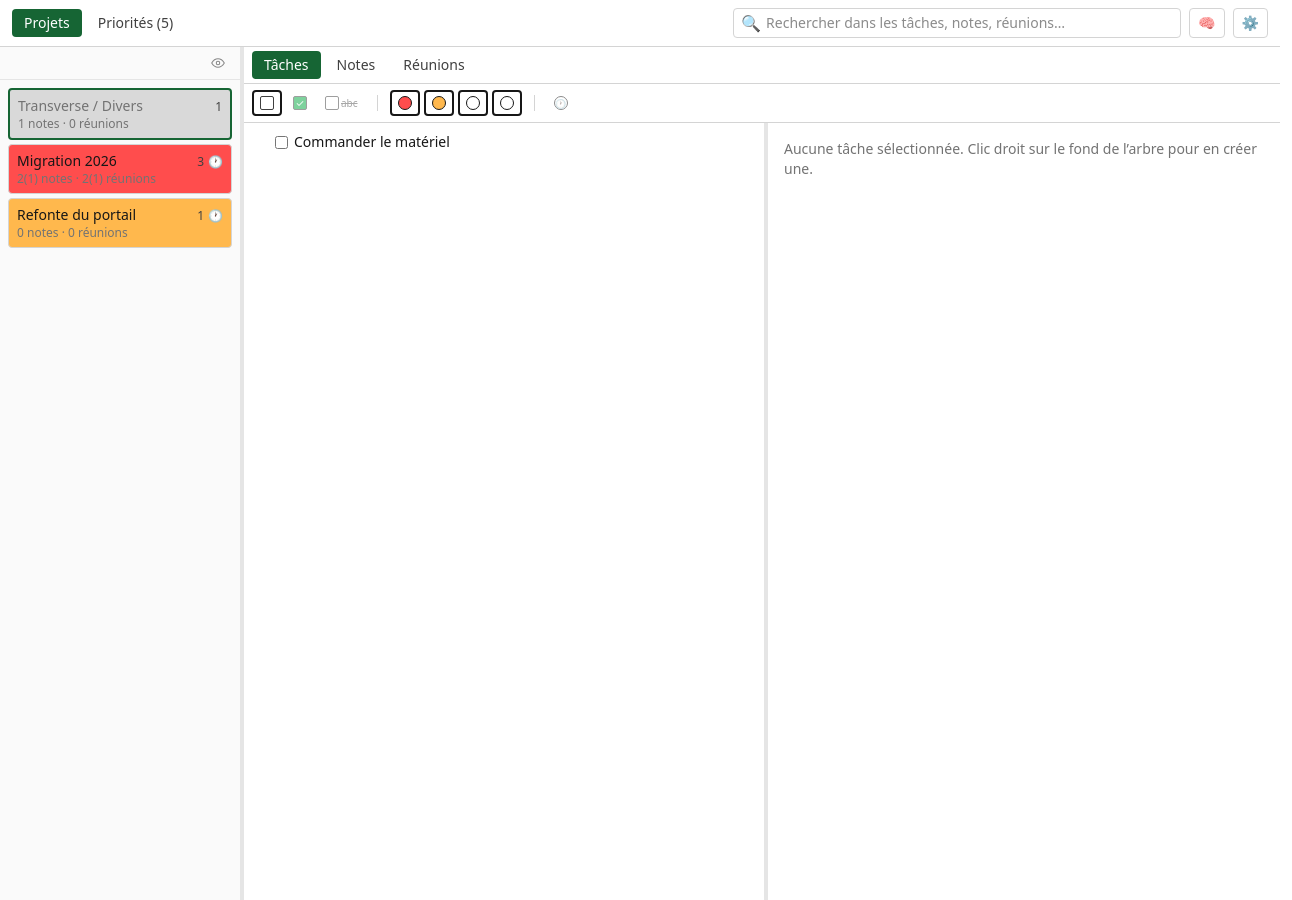
Test case: Opt-in sémantique (§2.12) › le bouton est présent sur une note et bascule à la demande
The width and height of the screenshot is (1292, 900).
Check: the navigation bar named "Projets" is shown, box [0, 80, 240, 899]
What coordinates should you click on to do the following:
click the tab "Notes"
I would click on:
 (356, 65)
Its box is [324, 51, 387, 79].
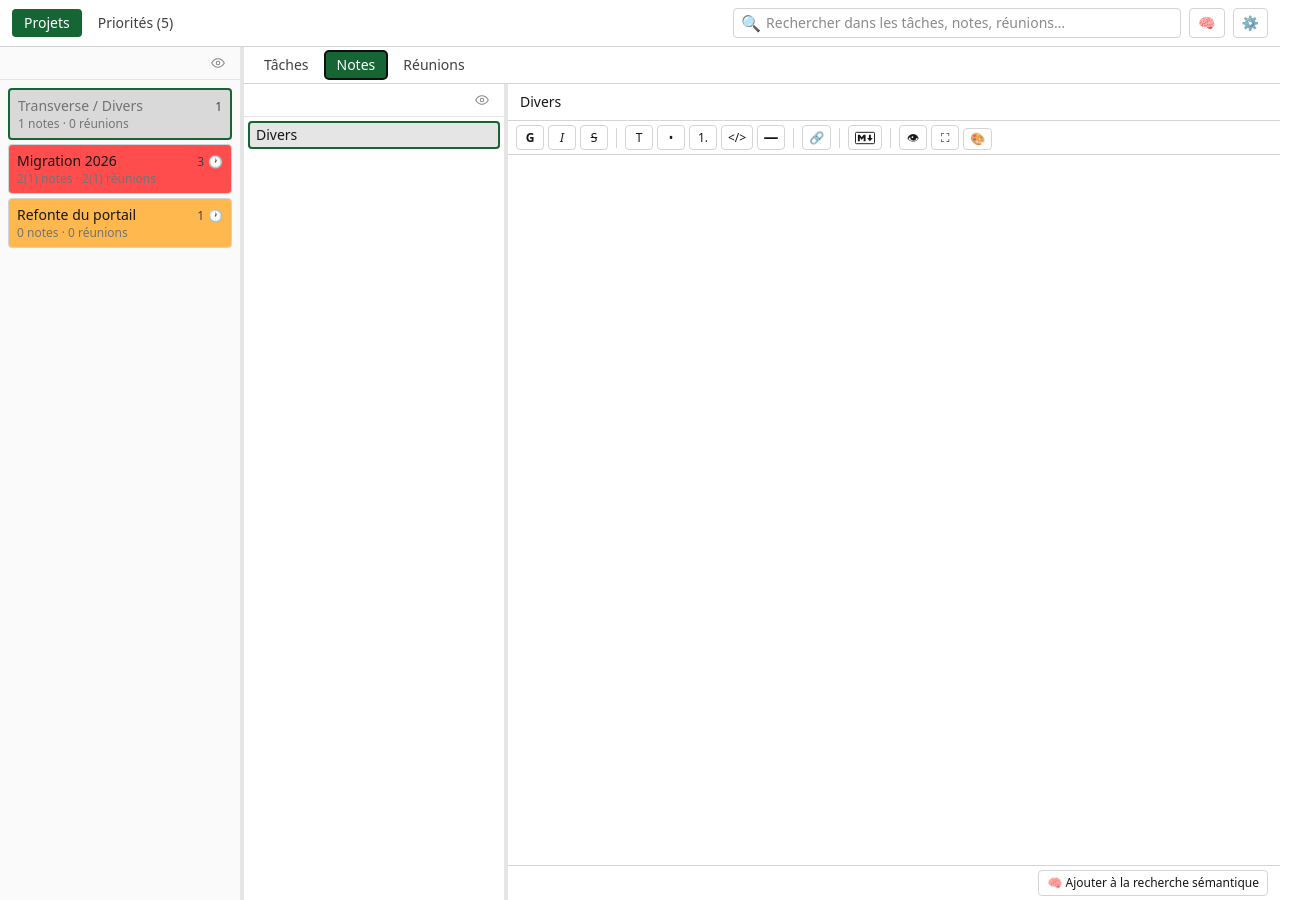
What coordinates should you click on to do the following:
click the button "🧠 Ajouter à la recherche sémantique"
I would click on:
 (1153, 883)
Its box is [1038, 870, 1268, 896].
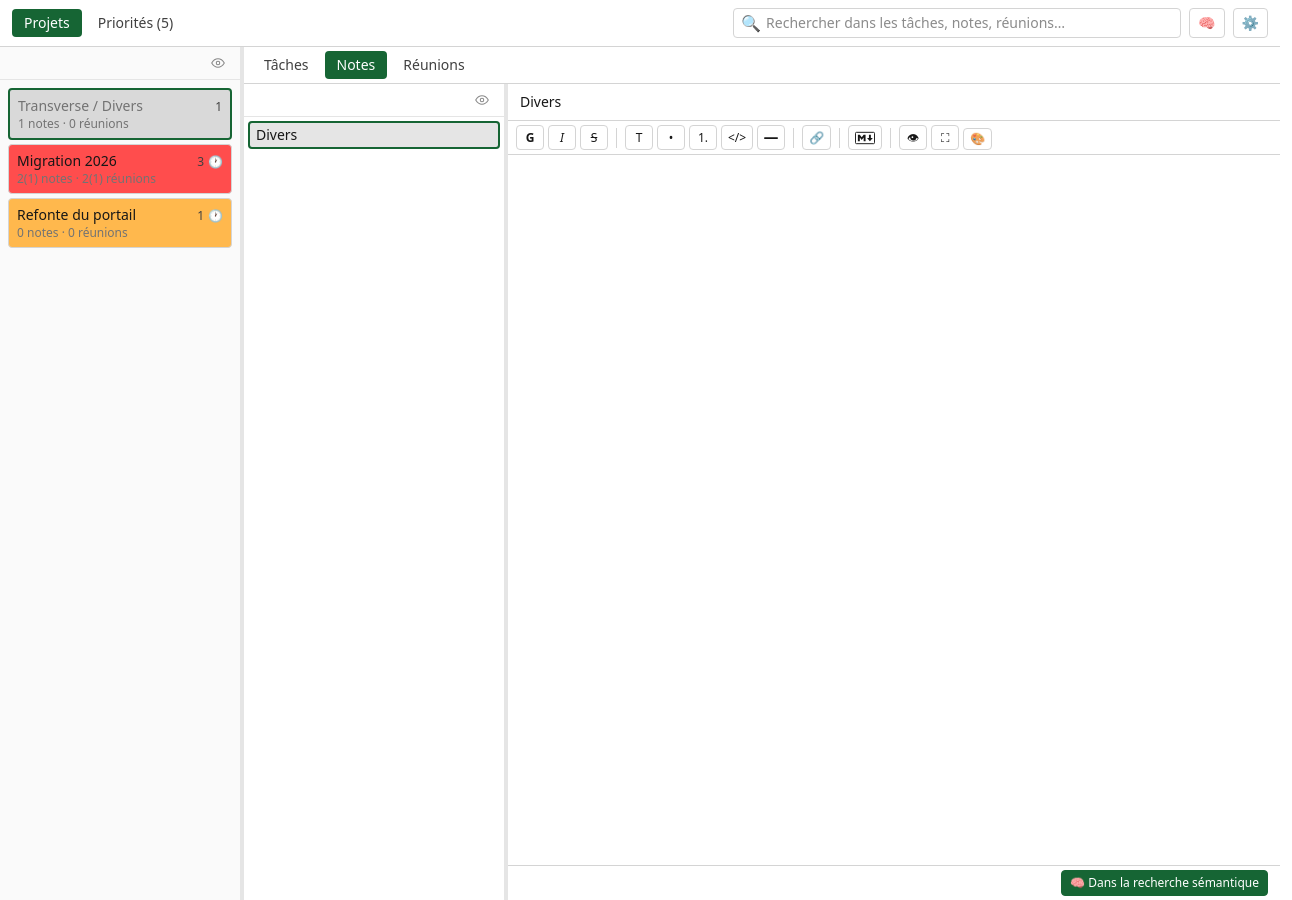
Check: the button "🧠 Dans la recherche sémantique" is pressed
What coordinates should you click on to do the following:
click the button "🧠 Dans la recherche sémantique"
I would click on:
 (1165, 883)
Its box is [1061, 870, 1268, 896].
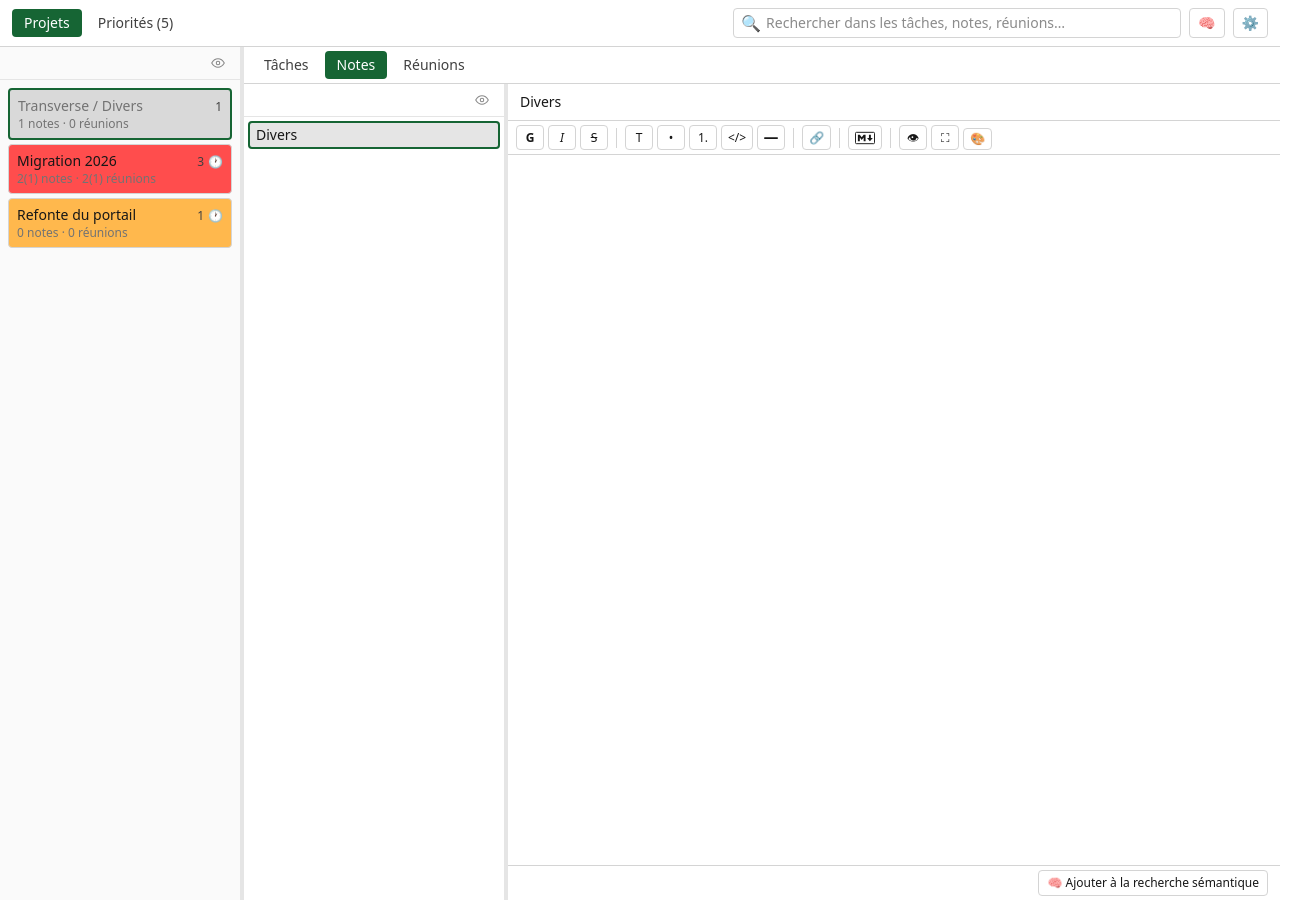
Check: the button "🧠 Ajouter à la recherche sémantique" is shown, box [1038, 870, 1268, 896]
